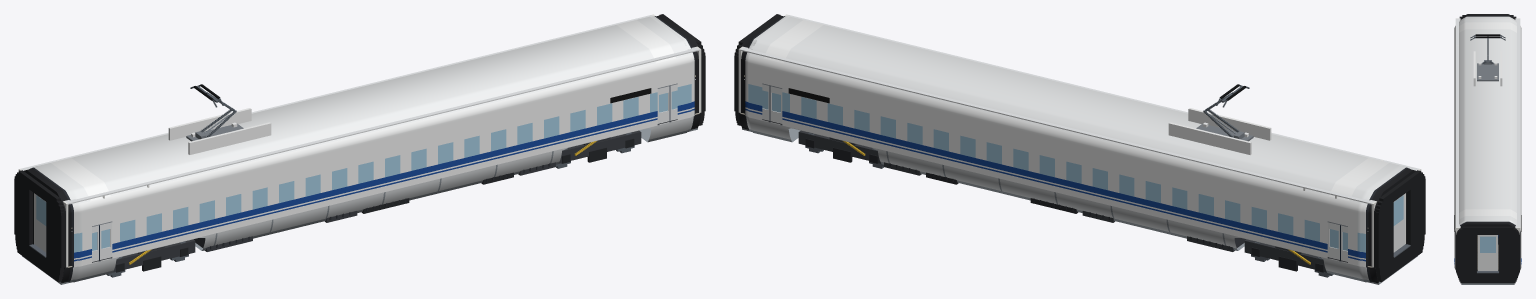
The model's file is n700s_car.obj.
3 renders of one model, left to right at view 1: azimuth 30°, elevation 25°; view 2: azimuth 150°, elevation 25°; view 3: azimuth 270°, elevation 25°, orthographic. The views are drawn at different scales.
Visible parts, largest first — view 1: SHELL, SHELL_diaphragm, SHELL_ceiling, SHELL_pantograph, BOGEY_FRONT, BOGEY_REAR, FRAME, CONNECTING_DOOR_1_CG_CR_TOGGLE_TL_0.98_Z, EXTERNAL_DOOR_10_CG_DR2_TOGGLE_TL_-0.44_X, SHELL_end; view 2: SHELL, SHELL_diaphragm, SHELL_ceiling, SHELL_pantograph, BOGEY_FRONT, BOGEY_REAR, FRAME, CONNECTING_DOOR_1_CG_CR_TOGGLE_TL_0.98_Z, EXTERNAL_DOOR_13_CG_DL2_TOGGLE_TL_-0.44_X, SHELL_end; view 3: SHELL, SHELL_diaphragm, SHELL_ceiling, SHELL_pantograph, CONNECTING_DOOR_2_CG_CF_TOGGLE_TL_0.98_Z, SHELL_end, SHELL_floor.
Boxes of the visible parts, box(x1,y1,x2,y2) form: SHELL: box(22, 14, 701, 284); SHELL_diaphragm: box(14, 14, 705, 282); SHELL_ceiling: box(20, 15, 699, 204); SHELL_pantograph: box(168, 84, 271, 154); BOGEY_FRONT: box(558, 130, 641, 163); BOGEY_REAR: box(113, 239, 195, 272); FRAME: box(92, 119, 677, 262); CONNECTING_DOOR_1_CG_CR_TOGGLE_TL_0.98_Z: box(35, 194, 46, 252); EXTERNAL_DOOR_10_CG_DR2_TOGGLE_TL_-0.44_X: box(657, 86, 670, 123); SHELL_end: box(18, 14, 701, 267); SHELL: box(738, 14, 1417, 284); SHELL_diaphragm: box(734, 14, 1425, 282); SHELL_ceiling: box(740, 15, 1419, 204); SHELL_pantograph: box(1168, 84, 1271, 154); BOGEY_FRONT: box(798, 130, 881, 163); BOGEY_REAR: box(1244, 239, 1326, 272); FRAME: box(762, 119, 1347, 262); CONNECTING_DOOR_1_CG_CR_TOGGLE_TL_0.98_Z: box(1393, 194, 1404, 252); EXTERNAL_DOOR_13_CG_DL2_TOGGLE_TL_-0.44_X: box(769, 86, 782, 123); SHELL_end: box(738, 14, 1421, 267); SHELL: box(1454, 14, 1521, 284); SHELL_diaphragm: box(1456, 15, 1519, 283); SHELL_ceiling: box(1455, 18, 1520, 227); SHELL_pantograph: box(1470, 34, 1505, 86); CONNECTING_DOOR_2_CG_CF_TOGGLE_TL_0.98_Z: box(1478, 235, 1497, 270); SHELL_end: box(1455, 18, 1520, 270); SHELL_floor: box(1477, 235, 1498, 269).
Size of the model in its own units: 25.32 by 5.68 by 3.4.
Materials: 1 (1 with a texture image).
